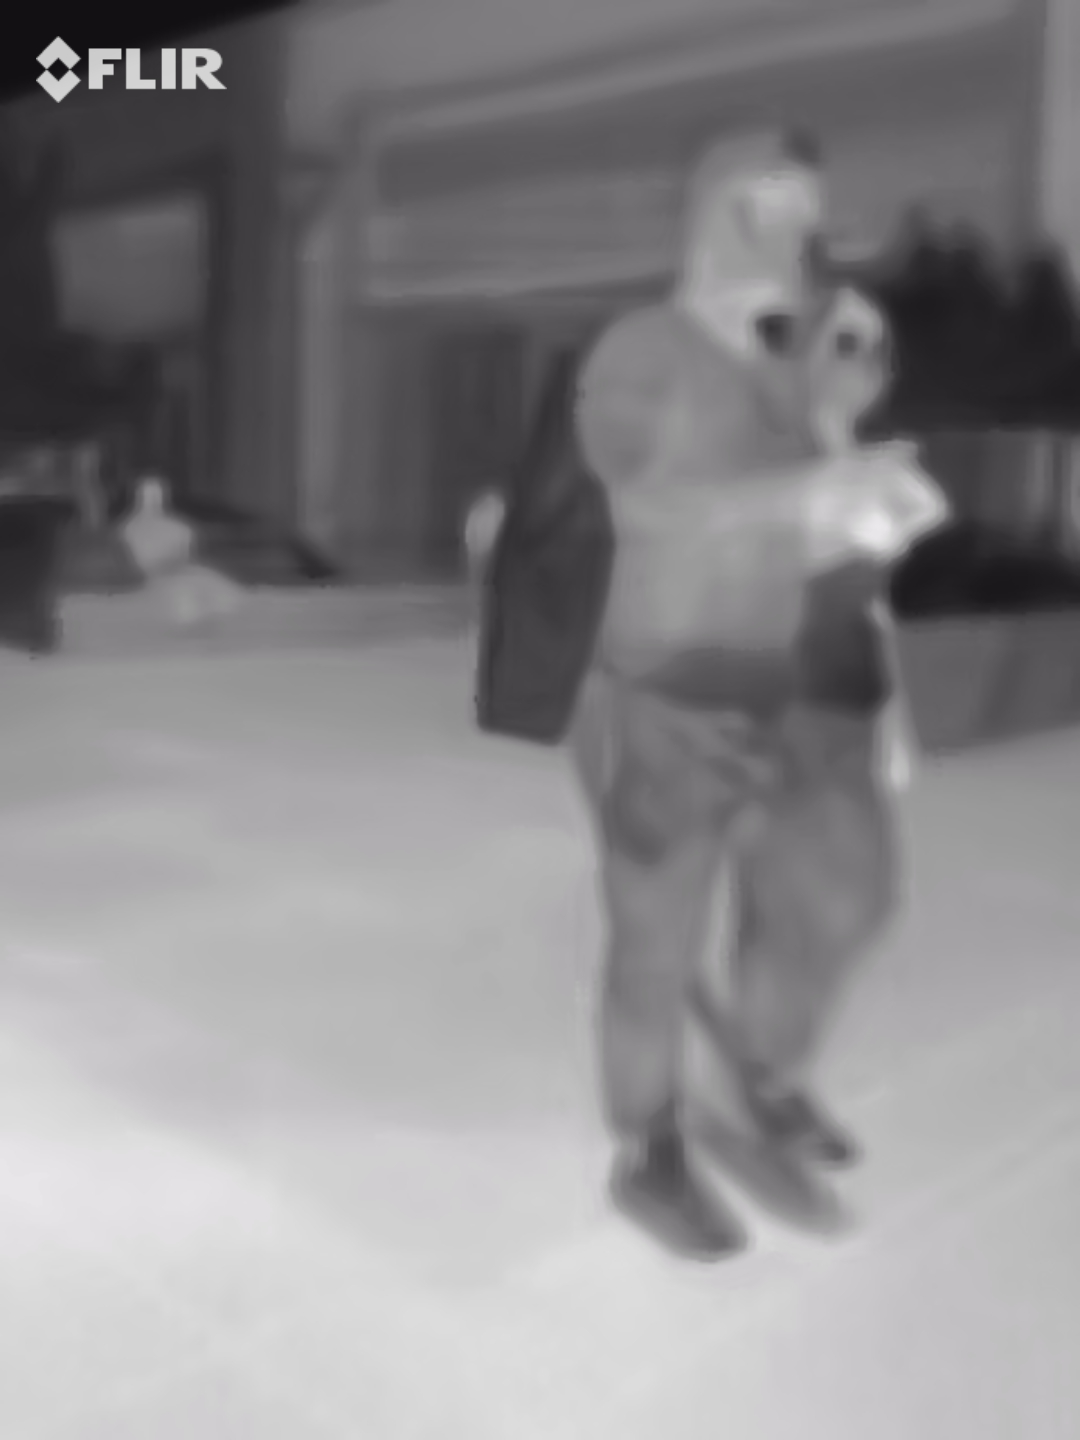head: (685, 127, 826, 321), (815, 284, 898, 413)
